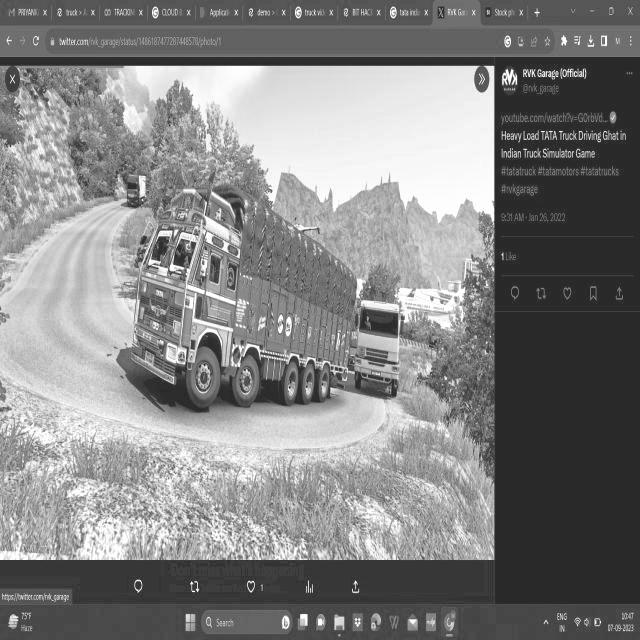HCV: (119, 146, 361, 425)
